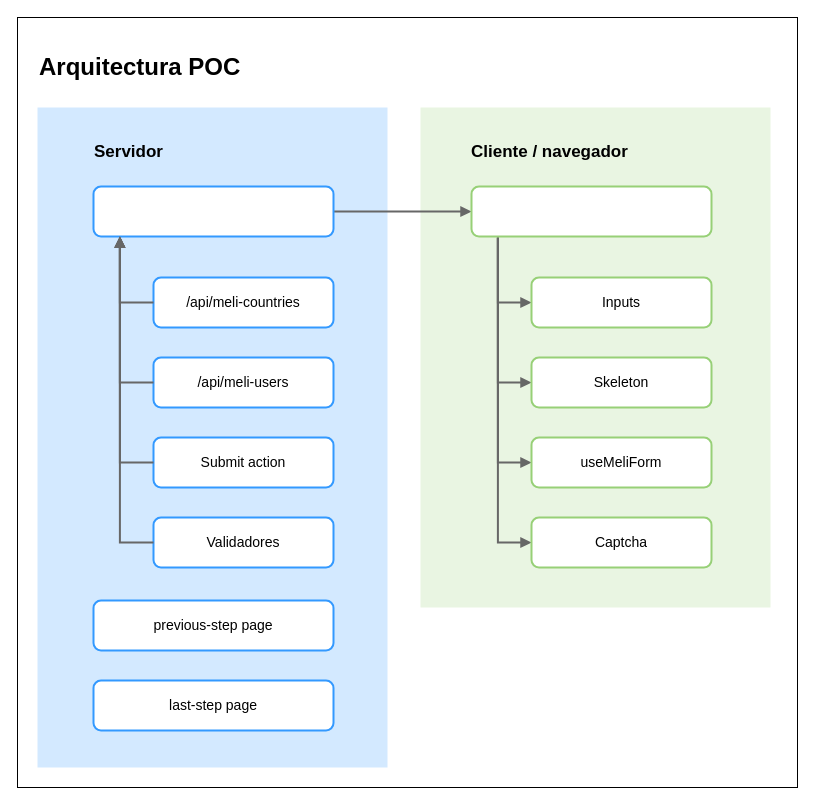
This 815x805 diagram has some shape labels left out. Here are the shapes that lost their labels. From the top down, the box of each, then its label:
(92, 185, 334, 237): abuse-prevention page
(470, 185, 712, 237): Formulario
